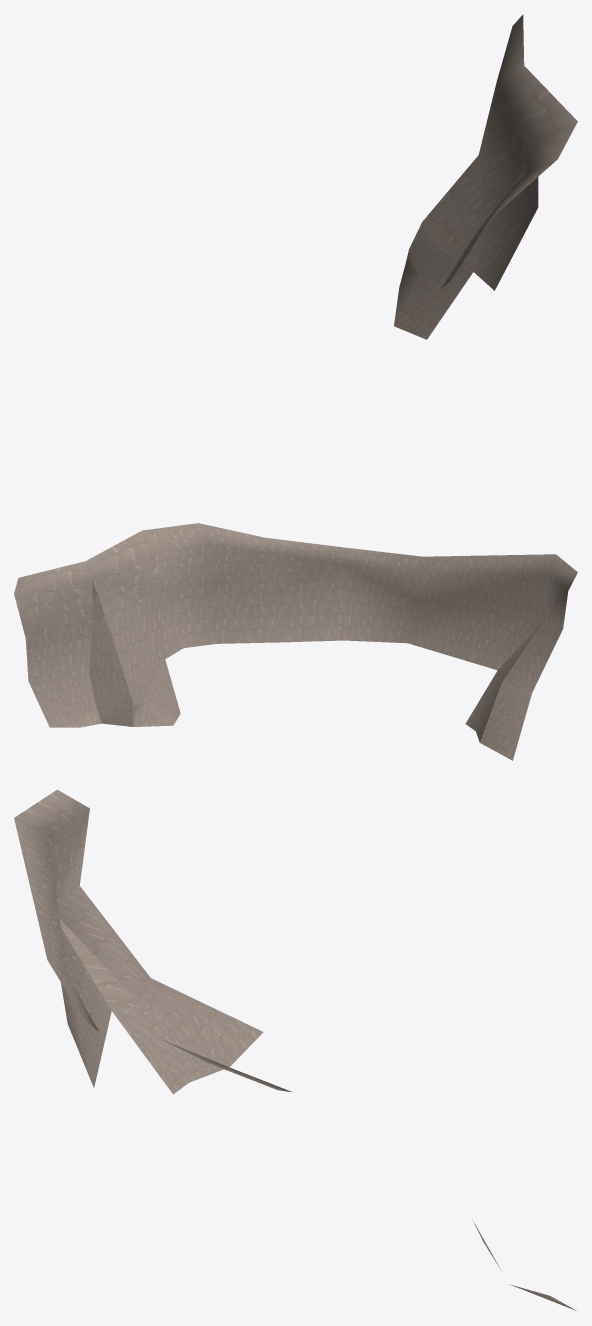
File: kd_stage_13612f_0_17.glb
3 views of the same model, one above another, from view 1: azimuth 30°, elevation 25°; view 2: azimuth 150°, elevation 25°; view 3: azimuth 270°, elevation 25° (orthographic). The views are drawn at different scales.
Parts seen in each view (by area): view 1: kd_stage_13612f_0_17; view 2: kd_stage_13612f_0_17; view 3: kd_stage_13612f_0_17.
Boxes of the visible parts, <box> form: kd_stage_13612f_0_17: <box>394,14,577,339</box>; kd_stage_13612f_0_17: <box>14,523,577,760</box>; kd_stage_13612f_0_17: <box>14,789,576,1310</box>.
Bounding box in the file's own units: 154 × 51.57 × 109.
Materials: 1 (1 with a texture image).
